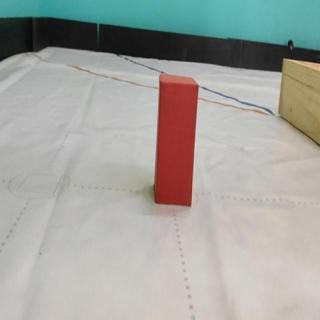redbox: (153, 73, 199, 208)
